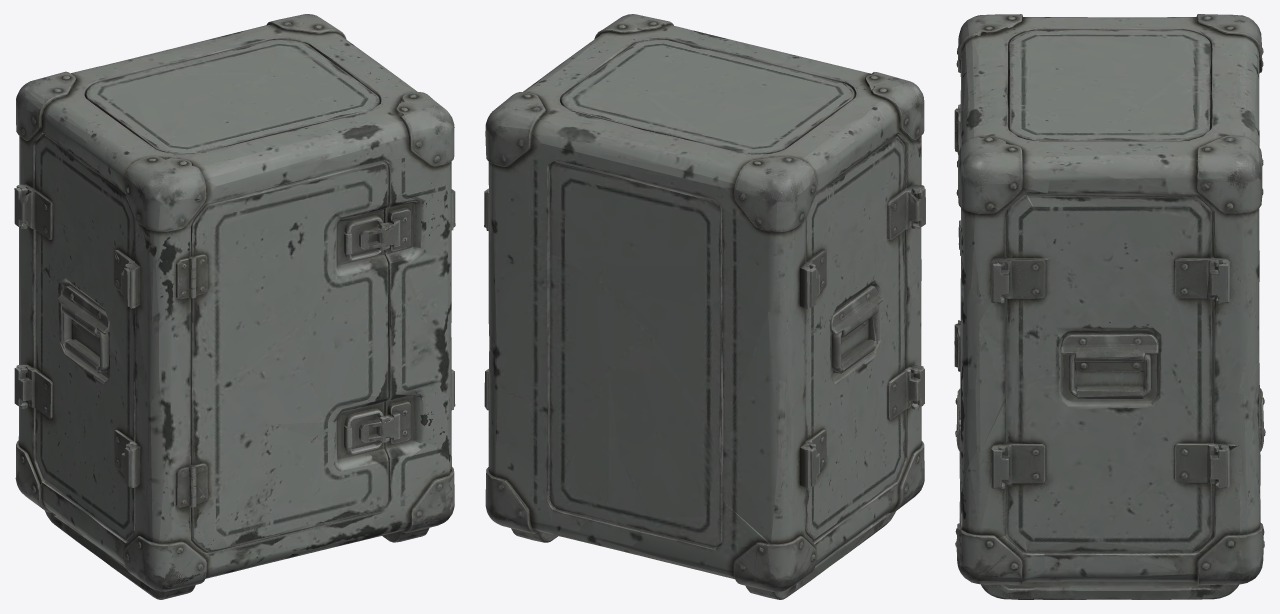
The model's file is locker-meshy.glb.
3 views of the same model, side by side, from view 1: azimuth 30°, elevation 25°; view 2: azimuth 150°, elevation 25°; view 3: azimuth 270°, elevation 25° (orthographic). The views are drawn at different scales.
Size of the model in its own units: 1.49 by 1.9 by 1.19.
1 material, 1 textured.
